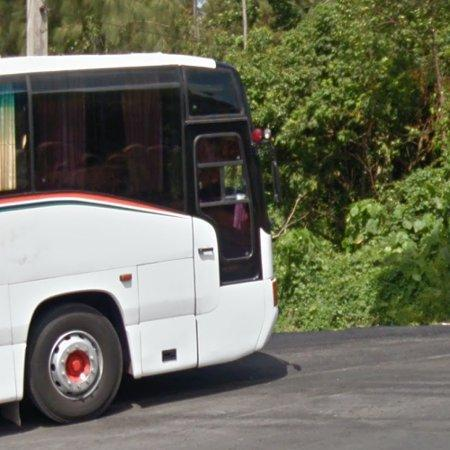buses: (0, 53, 279, 423)
